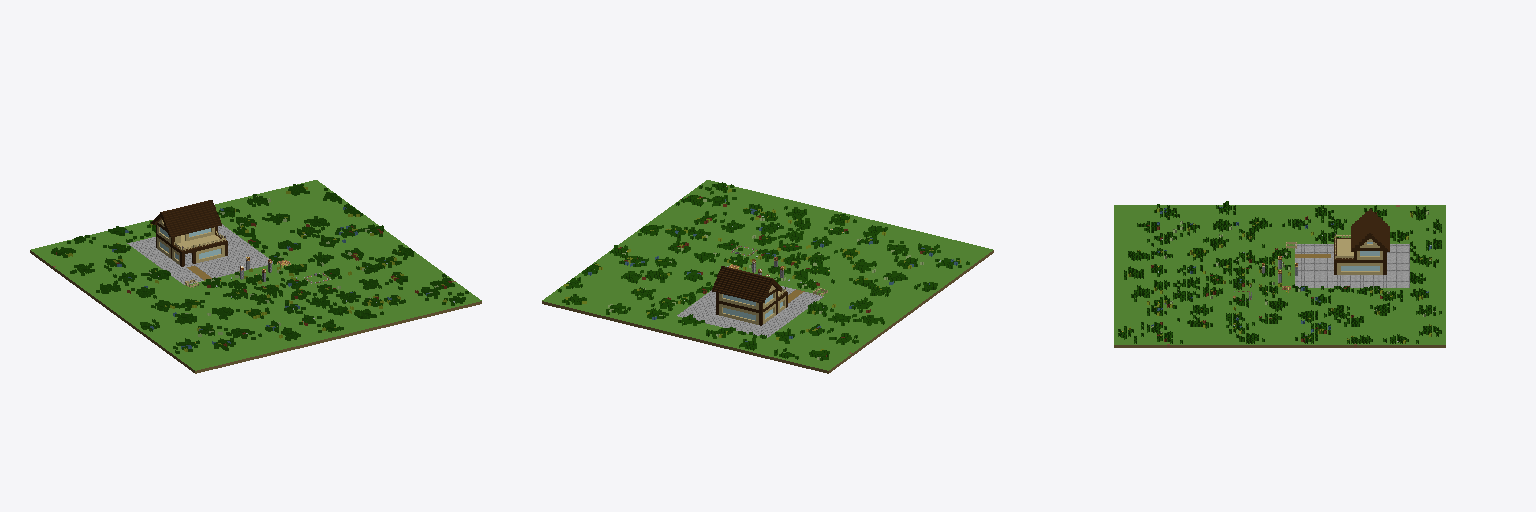
3 renders of one model, left to right at view 1: azimuth 30°, elevation 25°; view 2: azimuth 150°, elevation 25°; view 3: azimuth 270°, elevation 25°, orthographic.
Parts seen in each view (by area): view 1: chunk_-1_-2_minecraft_block-dark_oak_planks, chunk_-1_-2_minecraft_block-birch_planks, chunk_2_-3_minecraft_block-grass_block_top, chunk_2_1_minecraft_block-grass_block_top, chunk_-3_-3_minecraft_block-grass_block_top, chunk_-2_0_minecraft_block-grass_block_top, chunk_2_-2_minecraft_block-grass_block_top, chunk_-3_2_minecraft_block-grass_block_top, chunk_-2_2_minecraft_block-grass_block_top, chunk_1_-2_minecraft_block-grass_block_top, chunk_-3_0_minecraft_block-grass_block_top, chunk_-3_1_minecraft_block-grass_block_top (+21 smaller); view 2: chunk_-1_-2_minecraft_block-dark_oak_planks, chunk_2_-3_minecraft_block-grass_block_top, chunk_-2_0_minecraft_block-grass_block_top, chunk_-3_0_minecraft_block-grass_block_top, chunk_2_-2_minecraft_block-grass_block_top, chunk_-3_-3_minecraft_block-grass_block_top, chunk_2_1_minecraft_block-grass_block_top, chunk_-2_2_minecraft_block-grass_block_top, chunk_-3_2_minecraft_block-grass_block_top, chunk_-3_1_minecraft_block-grass_block_top, chunk_1_-2_minecraft_block-grass_block_top, chunk_-3_-2_minecraft_block-grass_block_top (+21 smaller); view 3: chunk_-1_-2_minecraft_block-dark_oak_planks, chunk_-2_0_minecraft_block-grass_block_top, chunk_2_1_minecraft_block-grass_block_top, chunk_2_-2_minecraft_block-grass_block_top, chunk_-1_-2_minecraft_block-birch_planks, chunk_-3_-3_minecraft_block-grass_block_top, chunk_-3_0_minecraft_block-grass_block_top, chunk_2_-3_minecraft_block-grass_block_top, chunk_-2_2_minecraft_block-grass_block_top, chunk_1_1_minecraft_block-grass_block_top, chunk_1_-3_minecraft_block-grass_block_top, chunk_-3_2_minecraft_block-grass_block_top (+21 smaller).
Boxes of the visible parts, box(x1,y1,x2,y2) form: chunk_-1_-2_minecraft_block-dark_oak_planks: box(156, 200, 227, 266); chunk_-1_-2_minecraft_block-birch_planks: box(157, 219, 225, 264); chunk_2_-3_minecraft_block-grass_block_top: box(266, 184, 336, 213); chunk_2_1_minecraft_block-grass_block_top: box(372, 261, 441, 290); chunk_-3_-3_minecraft_block-grass_block_top: box(40, 241, 109, 269); chunk_-2_0_minecraft_block-grass_block_top: box(163, 287, 233, 314); chunk_2_-2_minecraft_block-grass_block_top: box(292, 203, 363, 232); chunk_-3_2_minecraft_block-grass_block_top: box(171, 336, 240, 365); chunk_-2_2_minecraft_block-grass_block_top: box(216, 325, 286, 354); chunk_1_-2_minecraft_block-grass_block_top: box(249, 215, 316, 244); chunk_-3_0_minecraft_block-grass_block_top: box(118, 297, 183, 324); chunk_-3_1_minecraft_block-grass_block_top: box(147, 320, 213, 346); chunk_-1_-2_minecraft_block-dark_oak_planks: box(716, 267, 787, 325); chunk_2_-3_minecraft_block-grass_block_top: box(554, 282, 624, 311); chunk_-2_0_minecraft_block-grass_block_top: box(817, 268, 883, 297); chunk_-3_0_minecraft_block-grass_block_top: box(860, 280, 930, 308); chunk_2_-2_minecraft_block-grass_block_top: box(581, 262, 646, 291); chunk_-3_-3_minecraft_block-grass_block_top: box(787, 337, 851, 366); chunk_2_1_minecraft_block-grass_block_top: box(659, 205, 728, 231); chunk_-2_2_minecraft_block-grass_block_top: box(867, 230, 936, 257); chunk_-3_2_minecraft_block-grass_block_top: box(915, 241, 982, 270); chunk_-3_1_minecraft_block-grass_block_top: box(895, 261, 956, 287); chunk_1_-2_minecraft_block-grass_block_top: box(625, 277, 696, 300); chunk_-3_-2_minecraft_block-grass_block_top: box(808, 321, 877, 347); chunk_-1_-2_minecraft_block-dark_oak_planks: box(1334, 211, 1386, 274); chunk_-2_0_minecraft_block-grass_block_top: box(1229, 230, 1281, 251); chunk_2_1_minecraft_block-grass_block_top: box(1177, 319, 1228, 340); chunk_2_-2_minecraft_block-grass_block_top: box(1334, 319, 1386, 340); chunk_-1_-2_minecraft_block-birch_planks: box(1335, 235, 1382, 274); chunk_-3_-3_minecraft_block-grass_block_top: box(1387, 208, 1438, 229); chunk_-3_0_minecraft_block-grass_block_top: box(1229, 208, 1281, 229); chunk_2_-3_minecraft_block-grass_block_top: box(1387, 319, 1438, 340); chunk_-2_2_minecraft_block-grass_block_top: box(1124, 230, 1176, 251); chunk_1_1_minecraft_block-grass_block_top: box(1177, 297, 1228, 318); chunk_1_-3_minecraft_block-grass_block_top: box(1387, 297, 1438, 318); chunk_-3_2_minecraft_block-grass_block_top: box(1124, 208, 1176, 229).
Bounding box in the file's own units: 101 × 15 × 101.
29 materials, 12 textured.